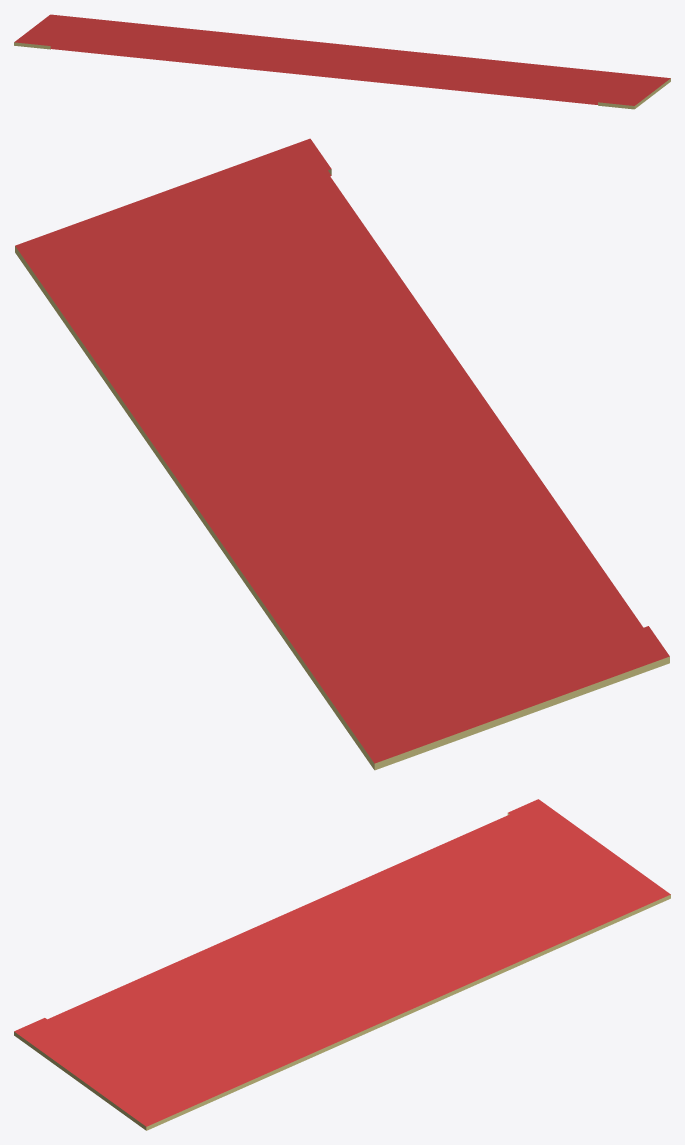
3 renders of one model, top to bottom at view 1: azimuth 30°, elevation 25°; view 2: azimuth 150°, elevation 25°; view 3: azimuth 270°, elevation 25°, orthographic. The views are drawn at different scales.
Size of the model in its own units: 15.05 by 14.62 by 1.13.
